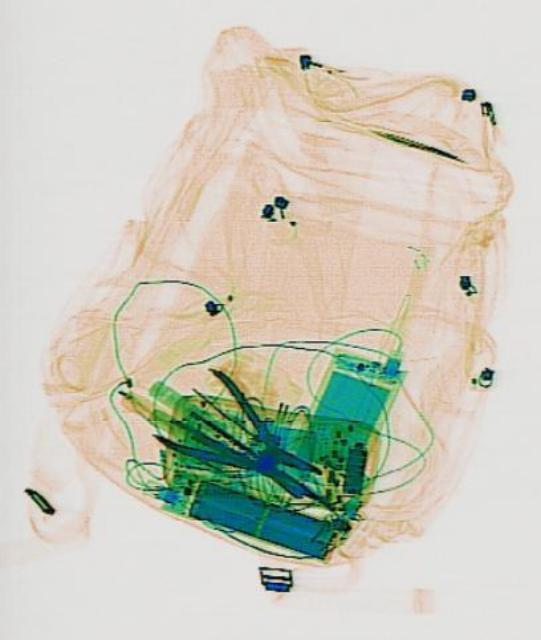Pliers: (149, 351, 338, 525)
